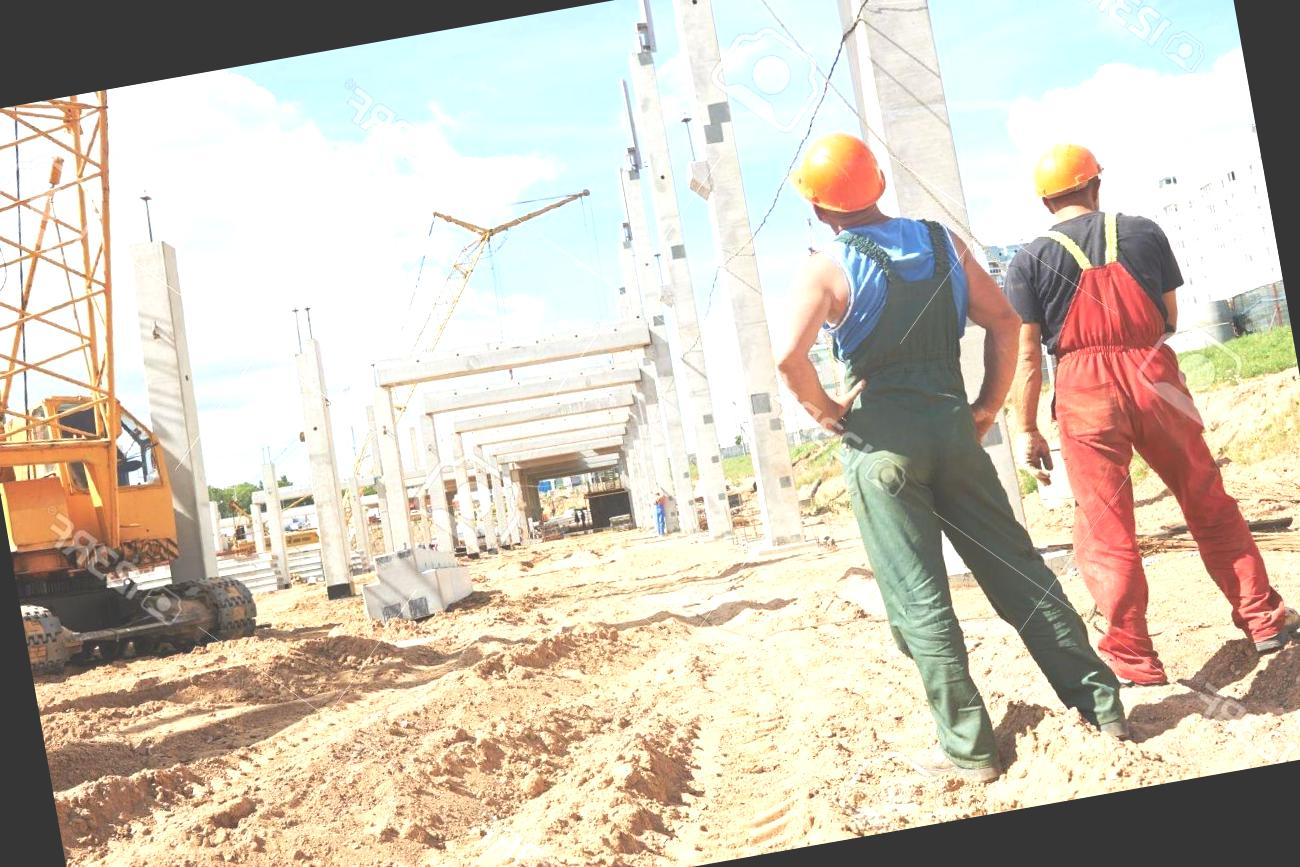helmet: (772, 127, 902, 222), (1016, 123, 1120, 209)
person: (735, 112, 1089, 796), (979, 106, 1300, 694)
